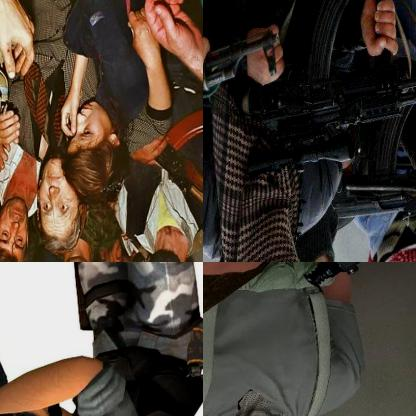rifle: (234, 0, 415, 181), (203, 262, 415, 337), (203, 0, 280, 137), (331, 102, 415, 227), (148, 99, 202, 224)
